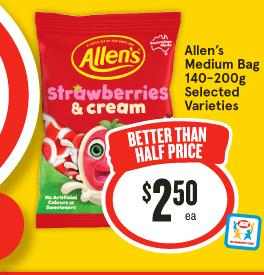description_block: (182, 41, 261, 113)
price_main: (121, 170, 220, 235)
product_image_block: (37, 8, 180, 127)
